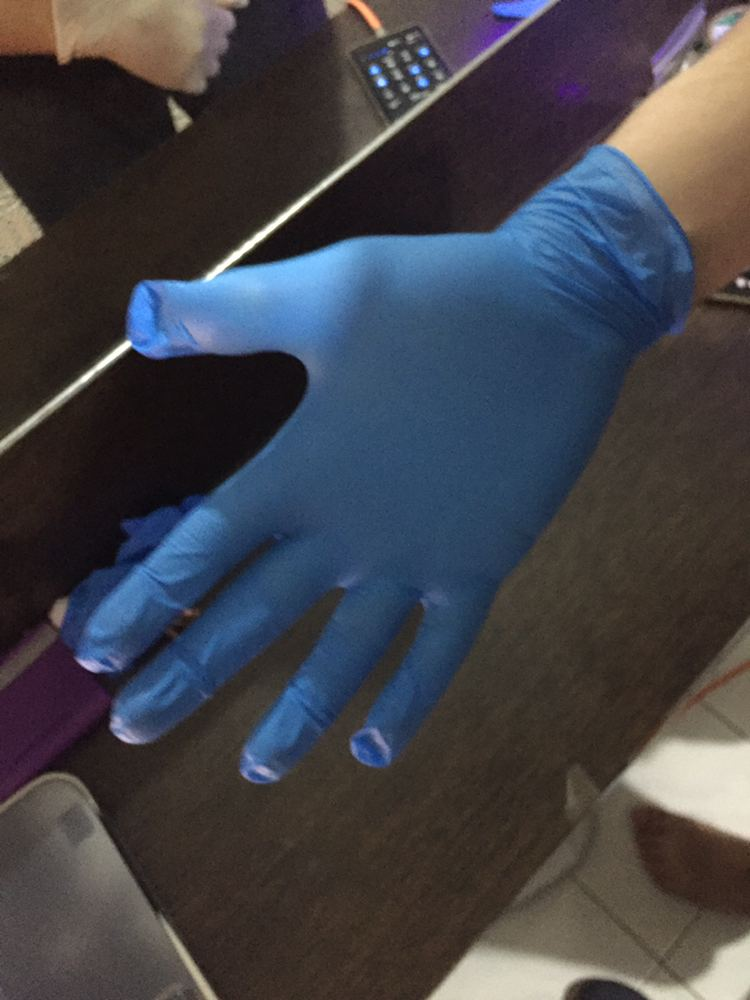glove: (36, 222, 647, 839)
